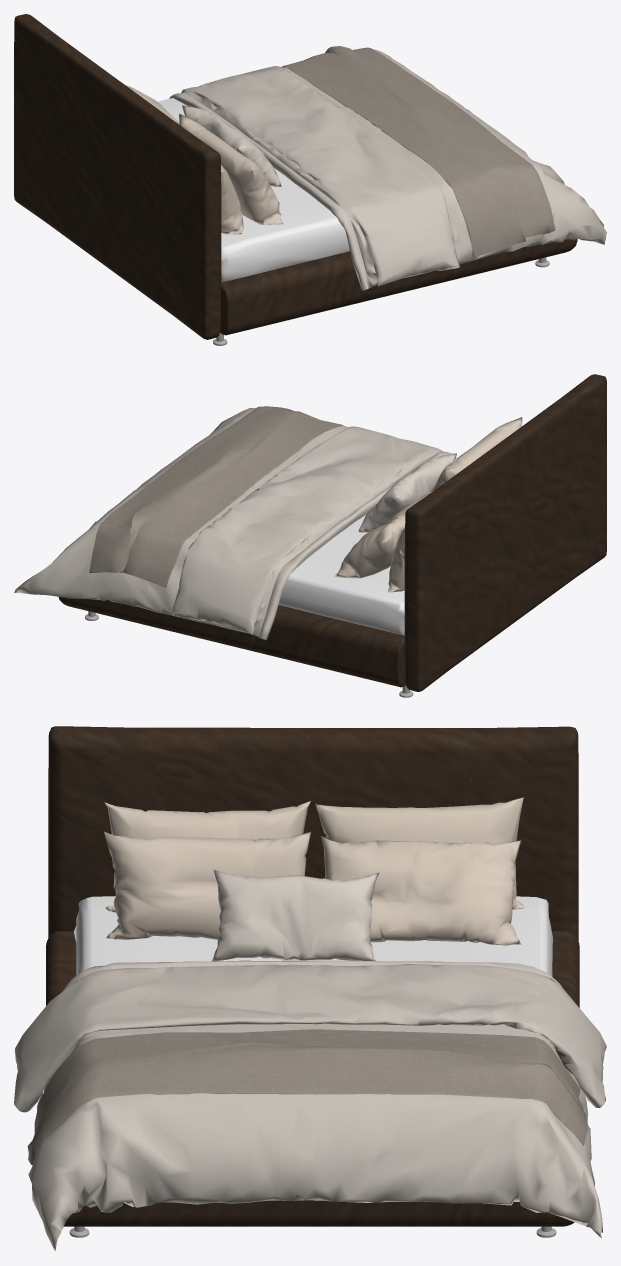
Rendered from Bed.fbx.
The picture shows the model from 3 angles, top to bottom: view 1: azimuth 30°, elevation 25°; view 2: azimuth 150°, elevation 25°; view 3: azimuth 270°, elevation 25°; orthographic projection. The views are drawn at different scales.
Parts seen in each view (by area): view 1: Bed; view 2: Bed; view 3: Bed.
Boxes of the visible parts, x1=… form: Bed: x1=14, y1=14, x2=606, y2=345; Bed: x1=14, y1=374, x2=606, y2=697; Bed: x1=14, y1=726, x2=606, y2=1251.
Size of the model in its own units: 259 by 122 by 238.
